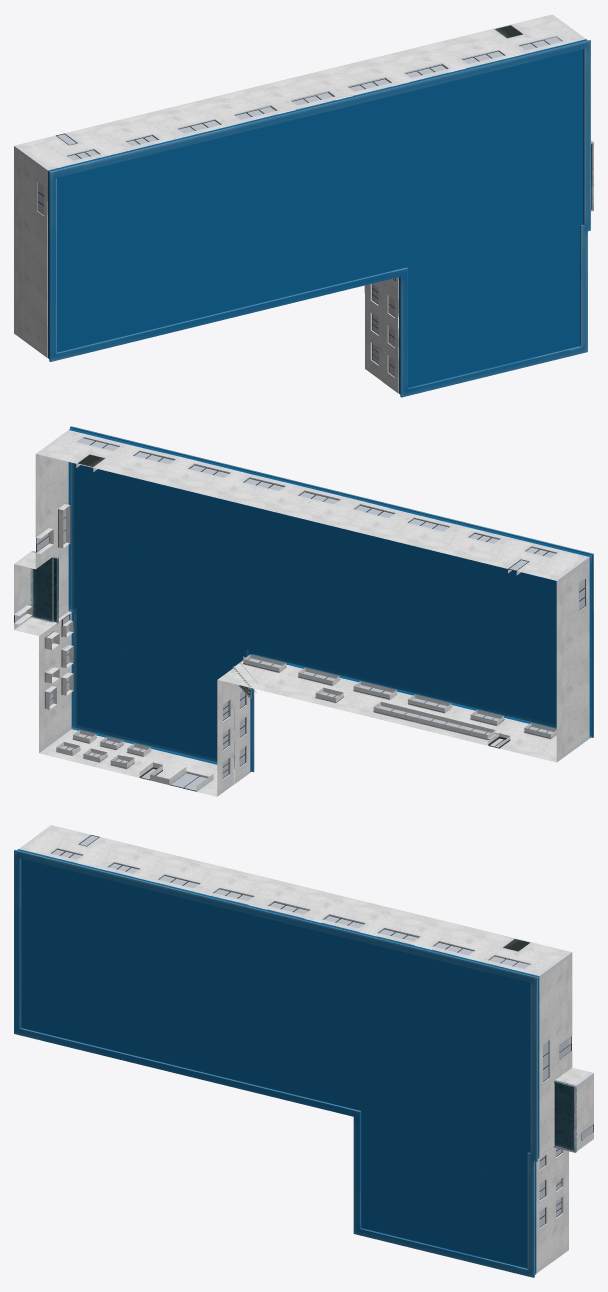
Rendered from Building_04.fbx.
3 renders of one model, top to bottom at view 1: azimuth 30°, elevation 25°; view 2: azimuth 150°, elevation 25°; view 3: azimuth 330°, elevation 25°, orthographic. The views are drawn at different scales.
Visible parts, largest first — view 1: Building_05; view 2: Building_05; view 3: Building_05.
Part boxes in pixels (x1=…): Building_05: x1=14, y1=14, x2=593, y2=397; Building_05: x1=14, y1=426, x2=593, y2=796; Building_05: x1=14, y1=825, x2=593, y2=1277.
Size of the model in its own units: 5943 by 3140 by 686.
